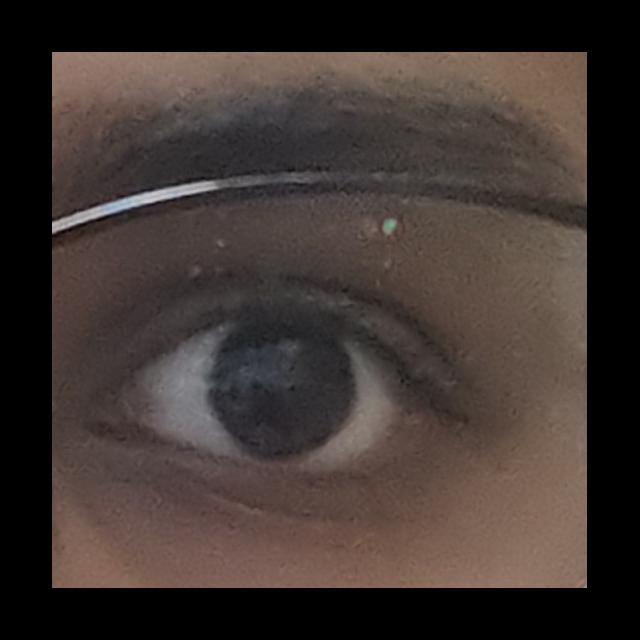eye: (138, 315, 412, 461)
iris: (214, 320, 355, 454)
